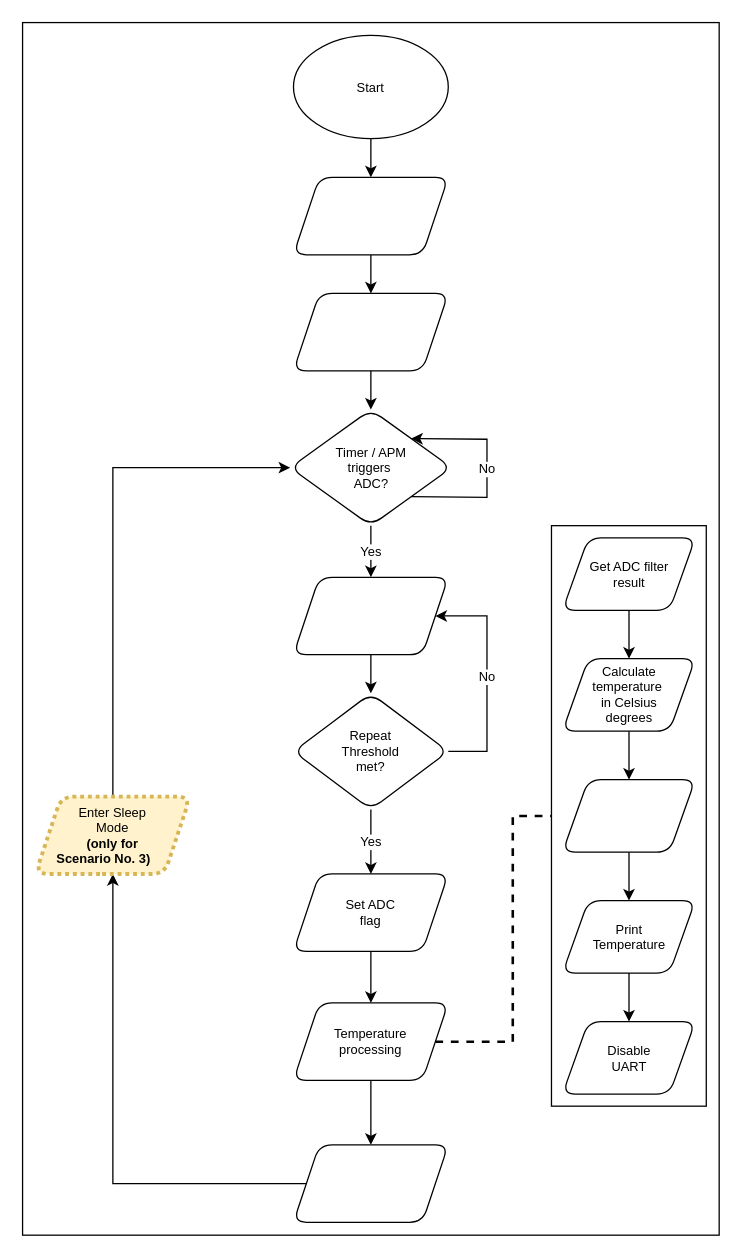
Some shapes in this 742 by 1258 pixel diagram are drawn without their labels. The centre of each missing label's shape, as x and y in pixels:
ADC read with accumulation: point (370, 615)
Clear ADC flag: point (370, 1183)
Enable & Set Interrupts: point (370, 331)
Enable UART: point (628, 815)
Initialize MCU, peripherals, pins: point (370, 215)
